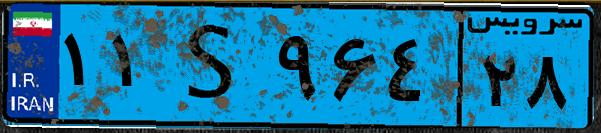1: (57, 26, 110, 100), (110, 28, 158, 98)
2: (475, 38, 525, 113)
4: (385, 28, 445, 110)
6: (330, 28, 385, 110)
8: (525, 38, 570, 115)
9: (270, 28, 330, 110)
S: (158, 12, 270, 120)
